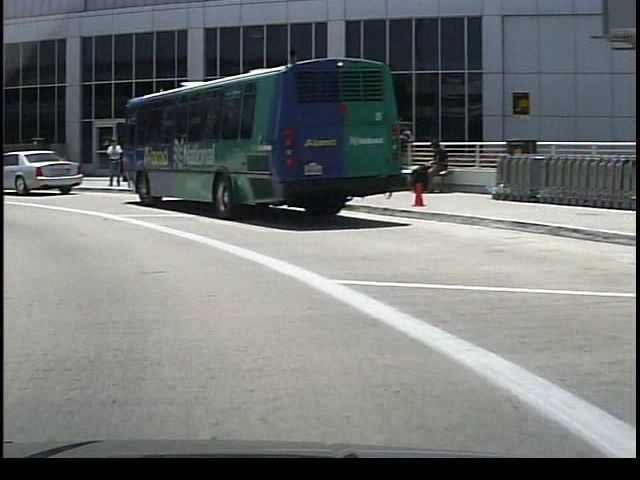person: (409, 134, 445, 198), (100, 137, 121, 188)
